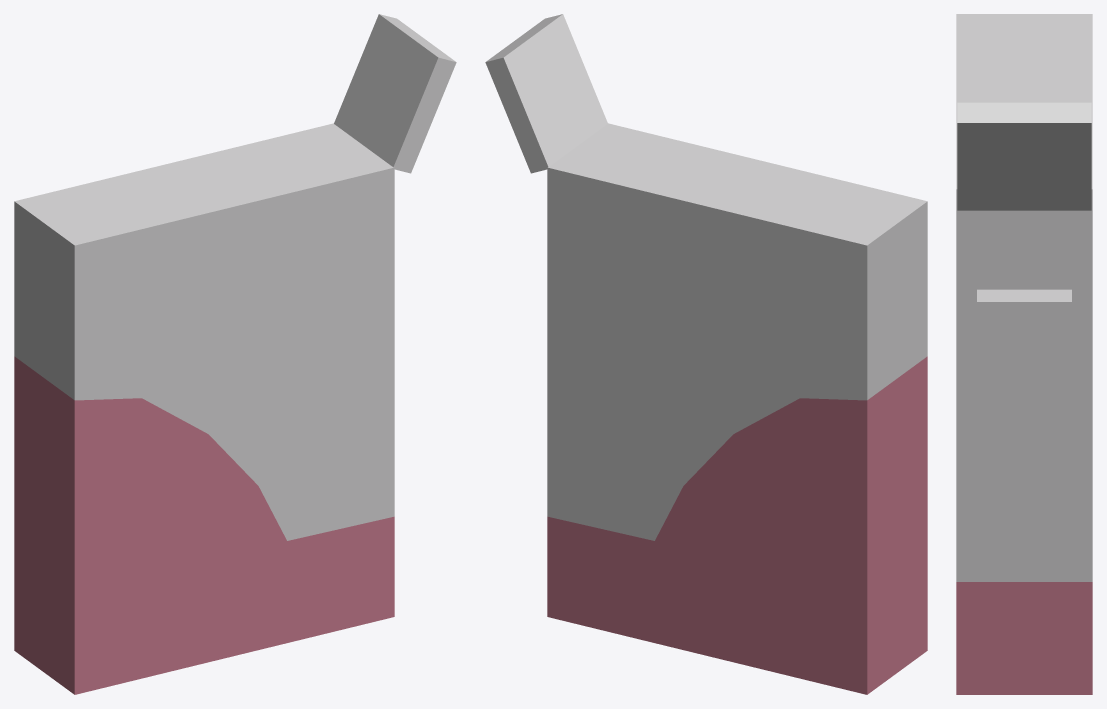
The model's file is SM_Detergent_01.glb.
3 renders of one model, left to right at view 1: azimuth 30°, elevation 25°; view 2: azimuth 150°, elevation 25°; view 3: azimuth 270°, elevation 25°, orthographic. The views are drawn at different scales.
Visible parts, largest first — view 1: SM_Detergent_01; view 2: SM_Detergent_01; view 3: SM_Detergent_01.
Boxes of the visible parts, x1,y1,x2,y2 form: SM_Detergent_01: [14, 14, 456, 694]; SM_Detergent_01: [485, 14, 927, 694]; SM_Detergent_01: [956, 14, 1092, 694].
Size of the model in its own units: 0.2941 by 0.403 by 0.0806.
1 material, 1 textured.
